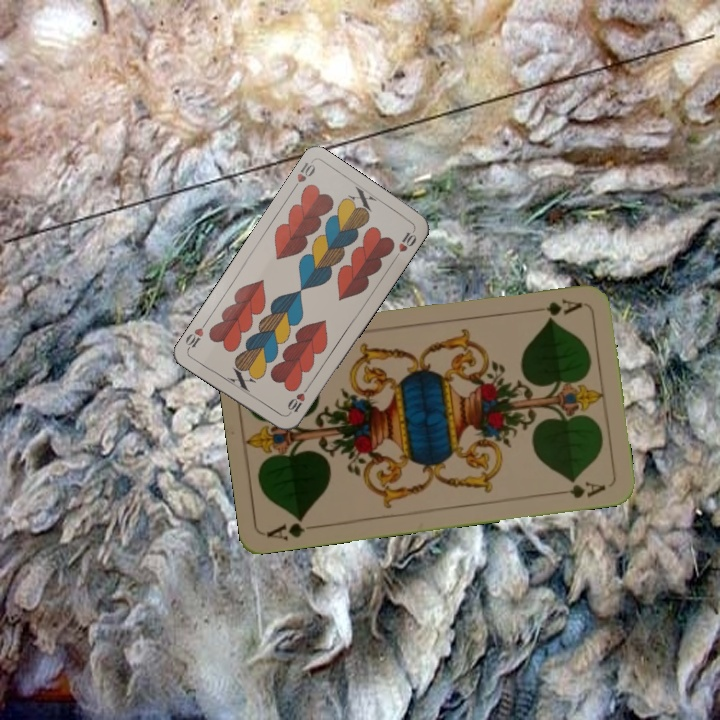GA: (264, 512, 323, 543), (526, 294, 585, 318)
H10: (288, 158, 318, 194), (283, 382, 312, 418)
